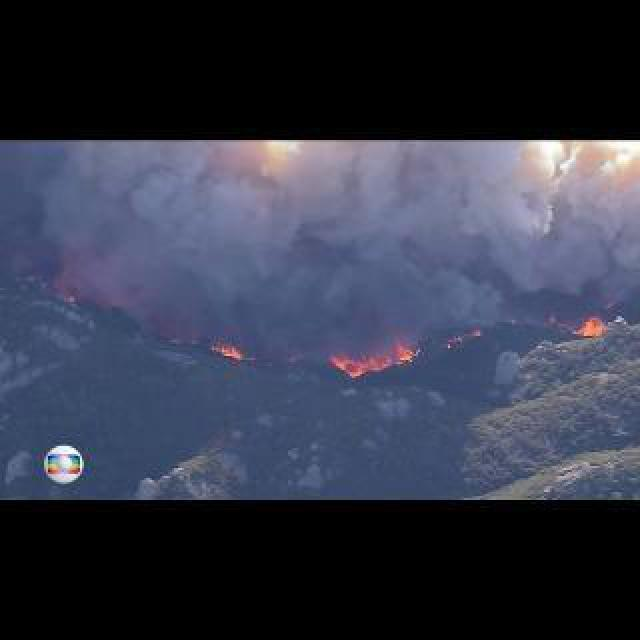Fire: (326, 346, 422, 376), (446, 330, 482, 348), (582, 314, 606, 338), (210, 346, 244, 358)
